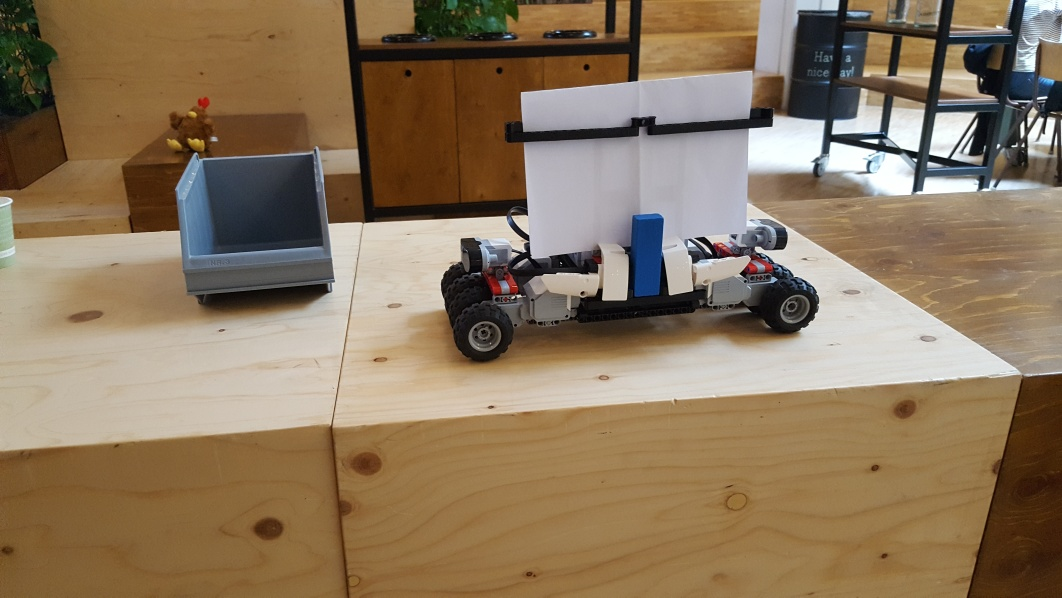beam: (630, 210, 663, 300)
chicken: (165, 98, 218, 151)
cup: (1, 195, 16, 261)
tray: (175, 147, 338, 298)
